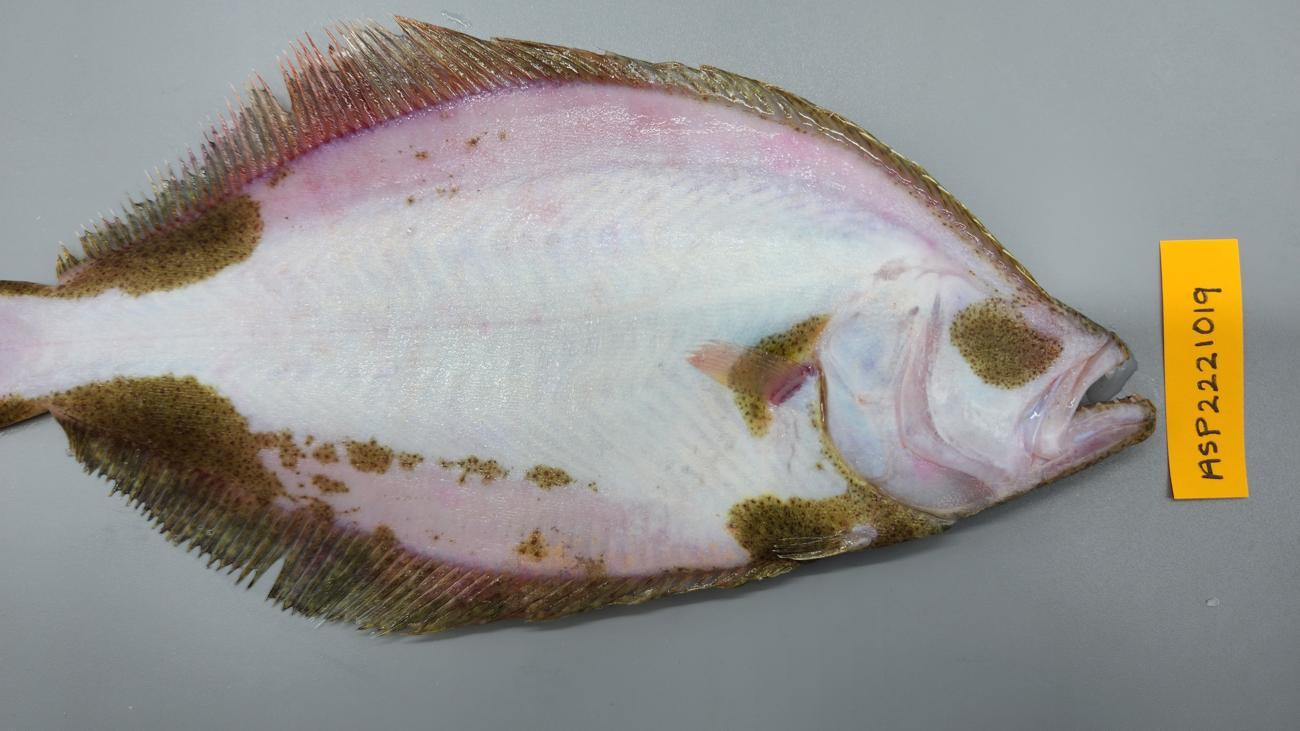SPDYH: (684, 337, 815, 410)
